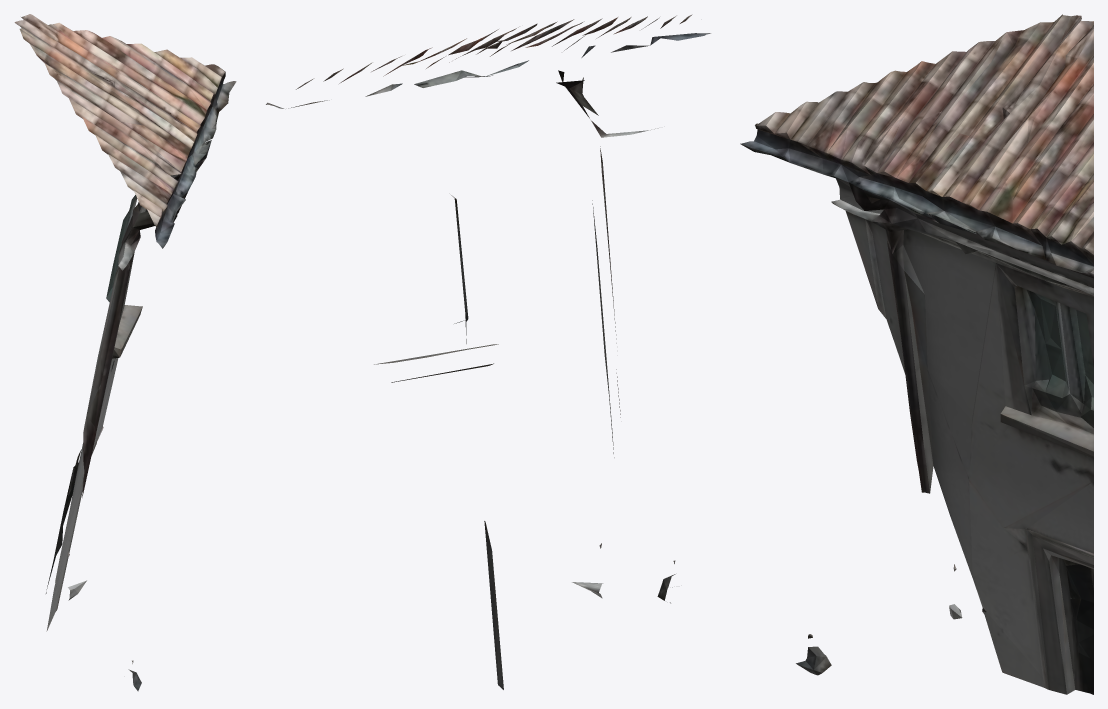
The picture shows the model from 3 angles, left to right: view 1: azimuth 30°, elevation 25°; view 2: azimuth 150°, elevation 25°; view 3: azimuth 270°, elevation 25°; orthographic projection. The views are drawn at different scales.
Size of the model in its own units: 2.76 by 6.7 by 3.26.
2 materials, 2 textured.
